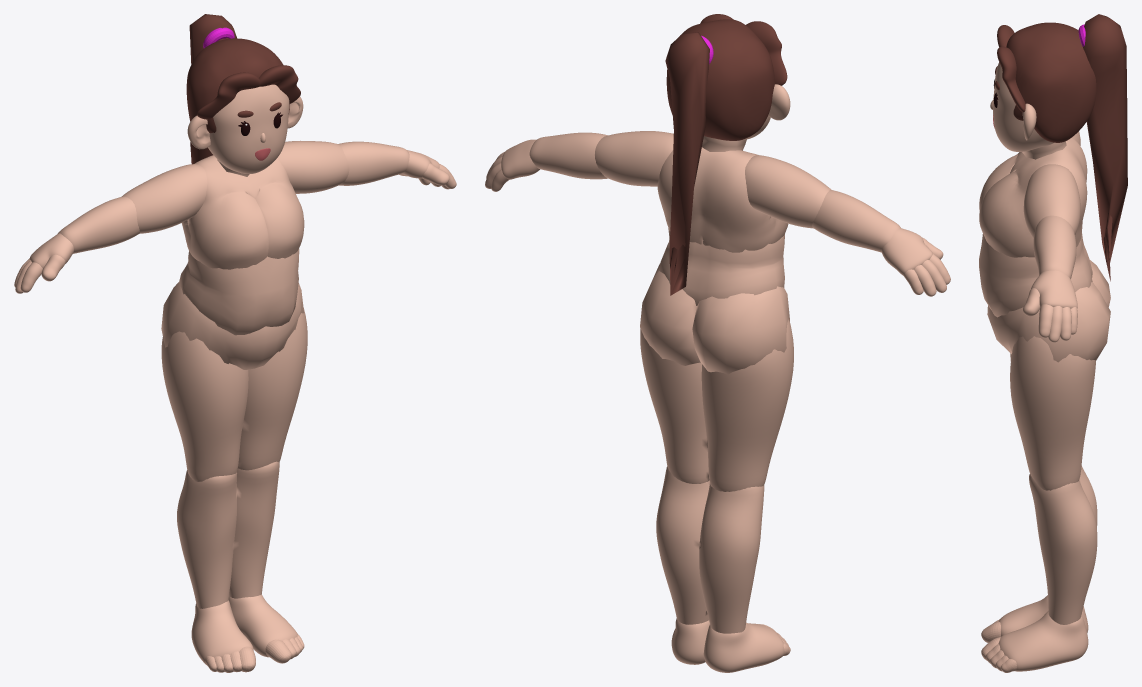
The model's file is female_model8.glb.
3 renders of one model, left to right at view 1: azimuth 30°, elevation 25°; view 2: azimuth 150°, elevation 25°; view 3: azimuth 270°, elevation 25°, orthographic. The views are drawn at different scales.
Visible parts, largest first — view 1: leg.006, chest 1.006, arm.006, foot.006, arm 2.006, head.007, pelvis.006, Icosphere.013, hand.006, Cube.028, Icosphere.014, ears.007; view 2: leg.006, chest 1.006, pelvis.006, arm.006, Icosphere.013, Icosphere.014, arm 2.006, foot.006, hand.006, Cube.028; view 3: leg.006, chest 1.006, Icosphere.013, Icosphere.014, foot.006, pelvis.006, arm.006, hand.006, arm 2.006, head.007, Cube.028, neck.006 (+1 smaller).
Boxes of the visible parts, x1,y1,x2,y2 form: leg.006: [161, 308, 307, 608]; chest 1.006: [179, 155, 304, 335]; arm.006: [121, 140, 349, 233]; foot.006: [191, 594, 304, 672]; arm 2.006: [57, 141, 409, 253]; head.007: [208, 84, 289, 173]; pelvis.006: [161, 282, 303, 369]; Icosphere.013: [186, 38, 289, 133]; hand.006: [14, 150, 456, 293]; Cube.028: [197, 65, 300, 119]; Icosphere.014: [189, 14, 236, 164]; ears.007: [187, 96, 303, 149]; leg.006: [640, 319, 793, 633]; chest 1.006: [657, 147, 788, 305]; pelvis.006: [640, 263, 789, 374]; arm.006: [595, 131, 831, 228]; Icosphere.013: [666, 19, 774, 140]; Icosphere.014: [665, 32, 709, 295]; arm 2.006: [529, 132, 900, 252]; foot.006: [671, 618, 790, 672]; hand.006: [485, 139, 950, 296]; Cube.028: [700, 14, 787, 85]; leg.006: [1010, 336, 1097, 624]; chest 1.006: [979, 137, 1092, 317]; Icosphere.013: [1006, 22, 1096, 142]; Icosphere.014: [1083, 14, 1127, 281]; foot.006: [981, 595, 1088, 672]; pelvis.006: [987, 260, 1110, 362]; arm.006: [1023, 131, 1080, 238]; hand.006: [1023, 270, 1077, 342]; arm 2.006: [1033, 215, 1076, 278]; head.007: [993, 62, 1053, 151]; Cube.028: [997, 25, 1025, 112]; neck.006: [1022, 141, 1066, 159].
Size of the model in its own units: 15.23 by 20.54 by 4.35.
